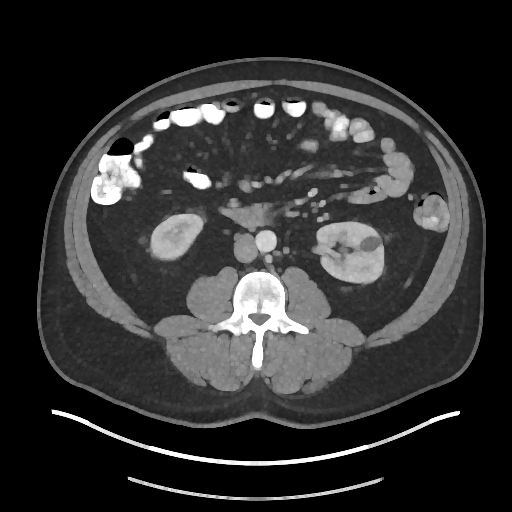Lesion: (355, 232, 384, 257)
